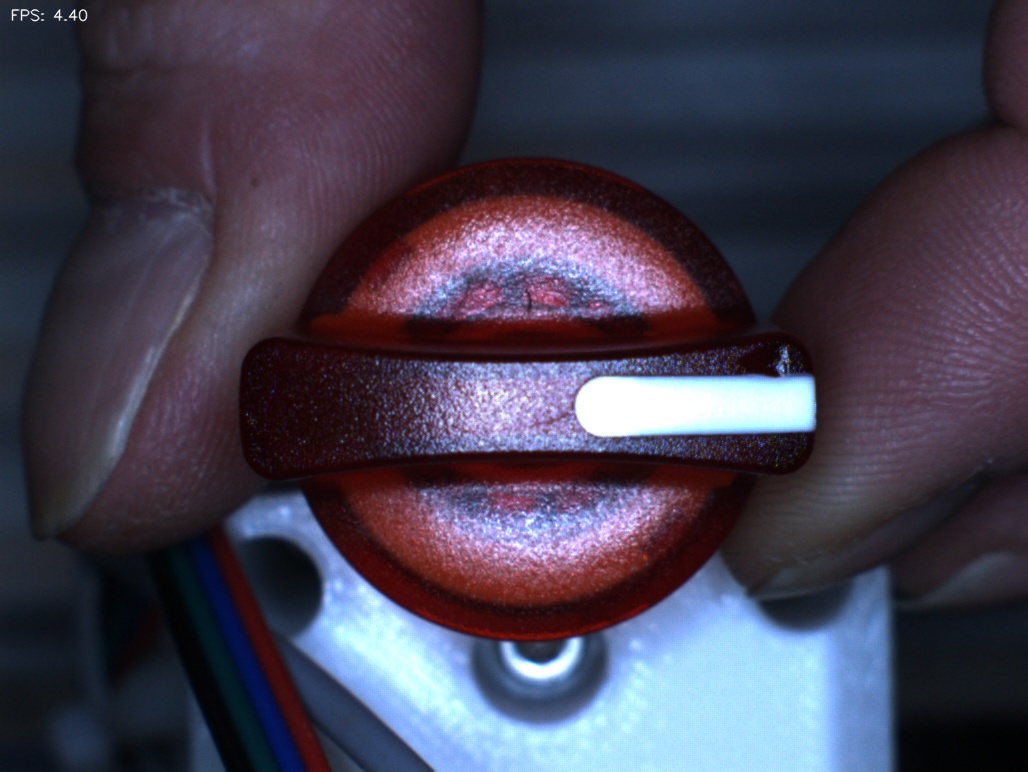Choc: (726, 322, 810, 406)
